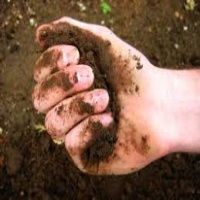ring: (34, 87, 118, 127)
